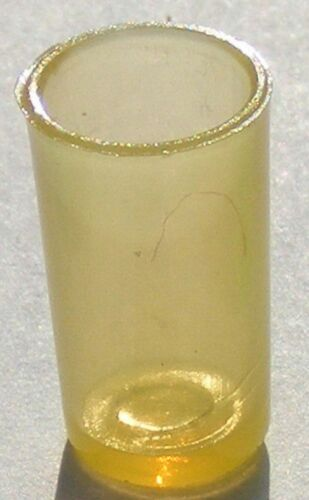plastic_glass: (11, 14, 309, 500)
